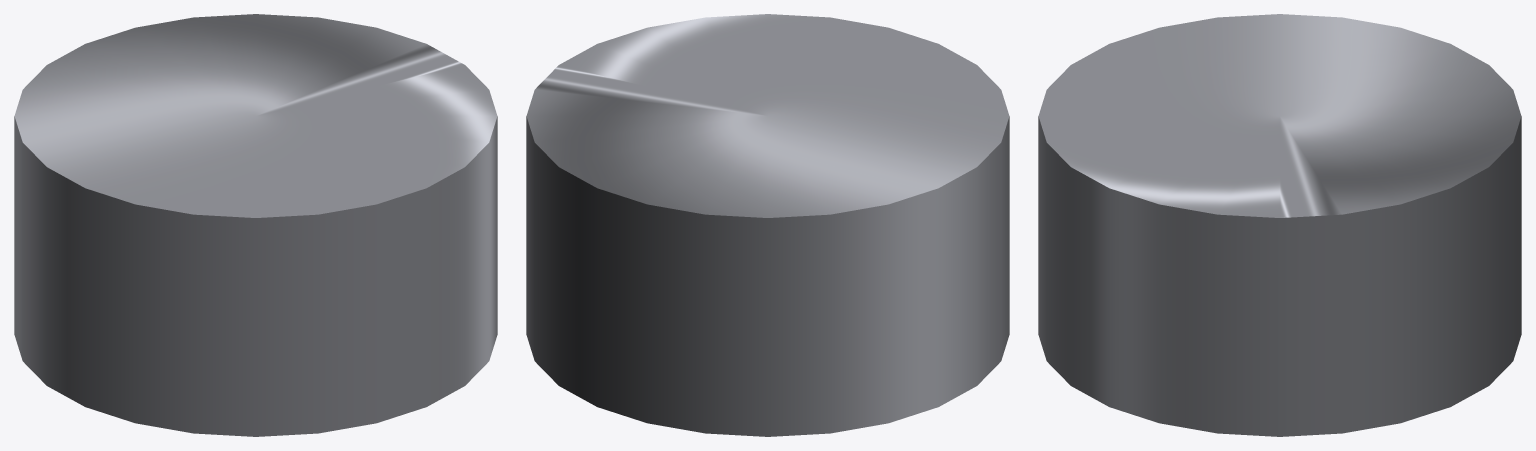
Rendered from rod.glb.
3 renders of one model, left to right at view 1: azimuth 30°, elevation 25°; view 2: azimuth 150°, elevation 25°; view 3: azimuth 270°, elevation 25°, orthographic.
Parts seen in each view (by area): view 1: rod; view 2: rod; view 3: rod.
Boxes of the visible parts, <box> form: rod: <box>14,14,497,436</box>; rod: <box>526,14,1009,436</box>; rod: <box>1038,14,1521,436</box>.
Size of the model in its own units: 2 by 1 by 2.
Materials: 1 (1 with a texture image).
